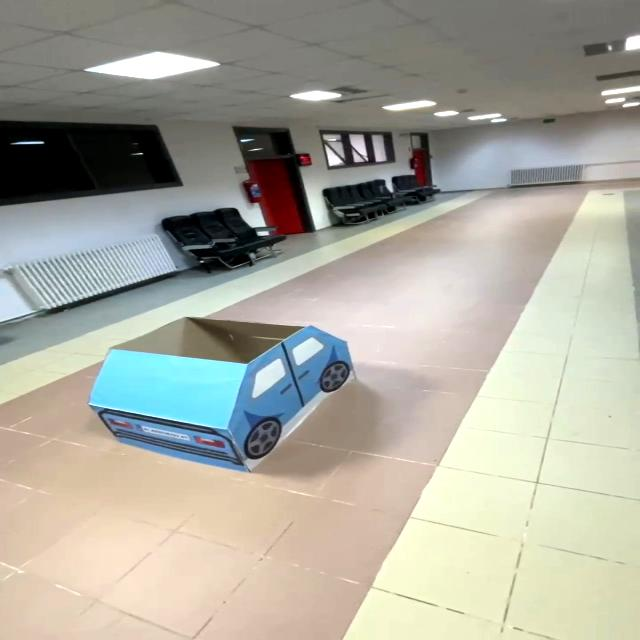blue_car: (24, 292, 413, 482)
